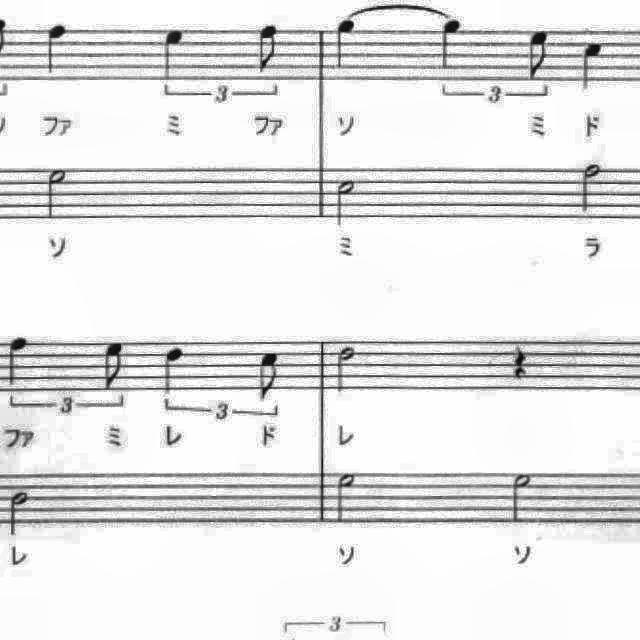Eighth-note: (250, 18, 288, 78), (252, 345, 288, 407), (520, 26, 556, 86), (98, 338, 136, 394)
Half-note: (504, 466, 540, 530), (576, 156, 612, 218), (39, 160, 73, 224), (331, 467, 363, 529), (330, 175, 362, 233), (330, 339, 362, 396), (5, 488, 33, 540)
Quarter-note: (40, 16, 76, 80), (156, 22, 192, 86), (433, 13, 469, 76), (574, 36, 610, 98), (328, 14, 364, 76), (156, 341, 192, 399), (1, 332, 35, 388)
Quarter-rest: (504, 337, 536, 385)
